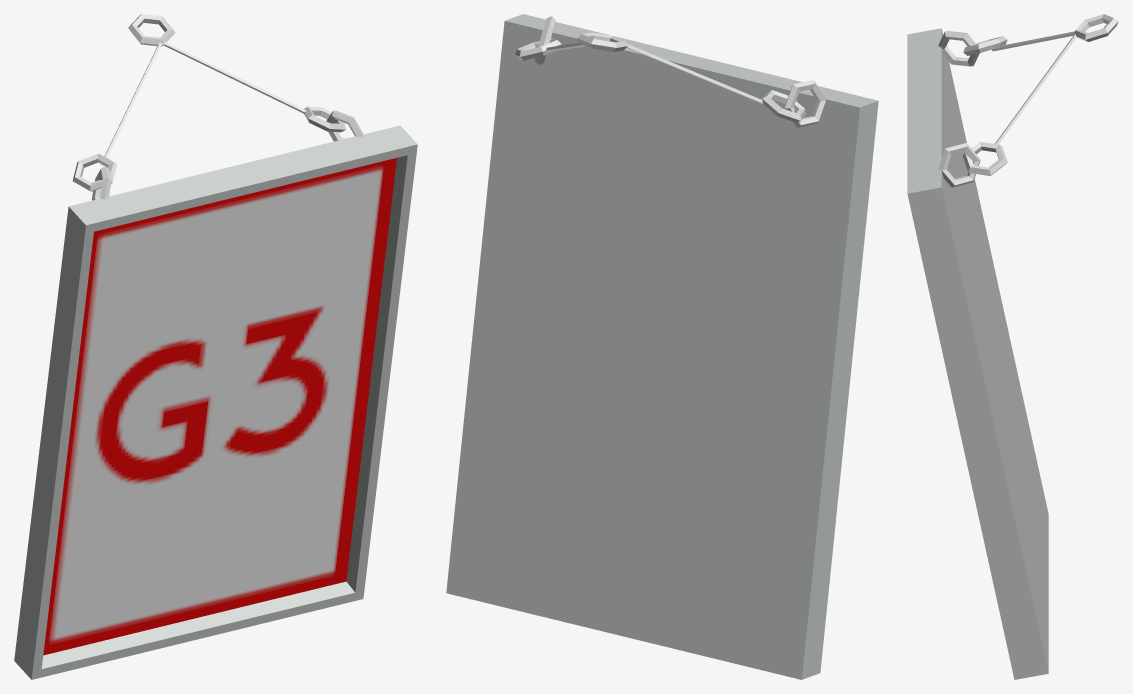
3 renders of one model, left to right at view 1: azimuth 30°, elevation 25°; view 2: azimuth 150°, elevation 25°; view 3: azimuth 270°, elevation 25°, orthographic. The views are drawn at different scales.
Parts seen in each view (by area): view 1: G3; view 2: G3; view 3: G3.
Boxes of the visible parts, x1,y1,x2,y2 form: G3: (14,14,417,679); G3: (446,14,878,679); G3: (907,14,1118,679).
Bounding box in the file's own units: 200 × 606 × 357.
